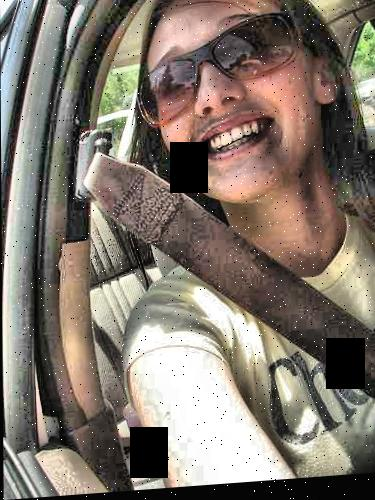seatbelt: (65, 143, 343, 395)
